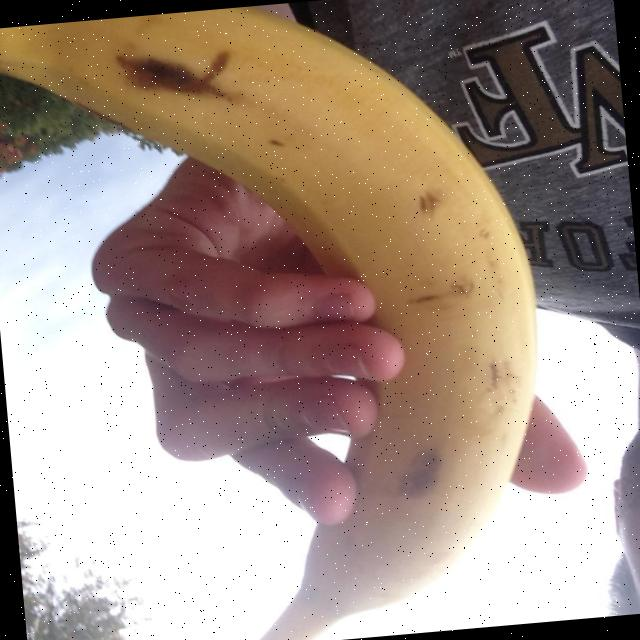banana: (0, 5, 541, 640)
